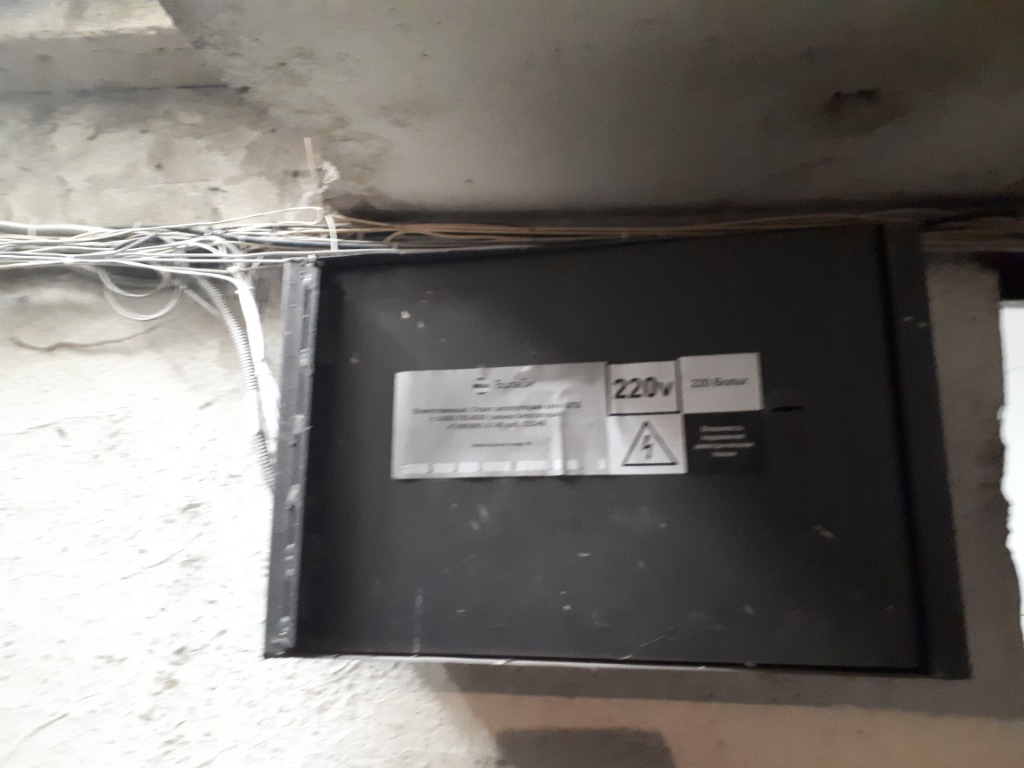e2-6u: (243, 213, 978, 691)
